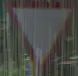Give way: (2, 3, 68, 60)
